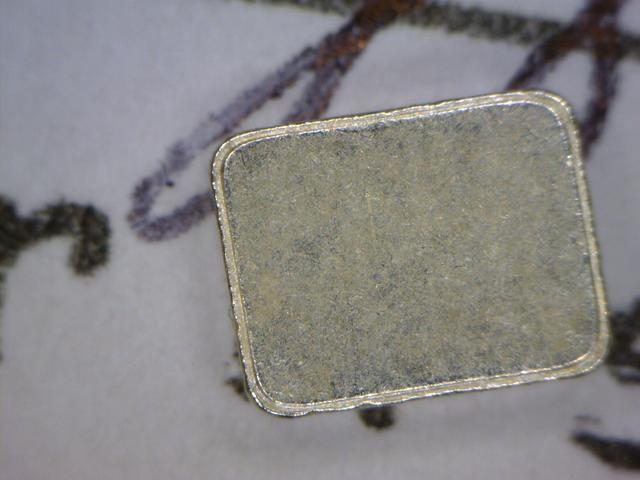nok: (207, 86, 616, 423)
